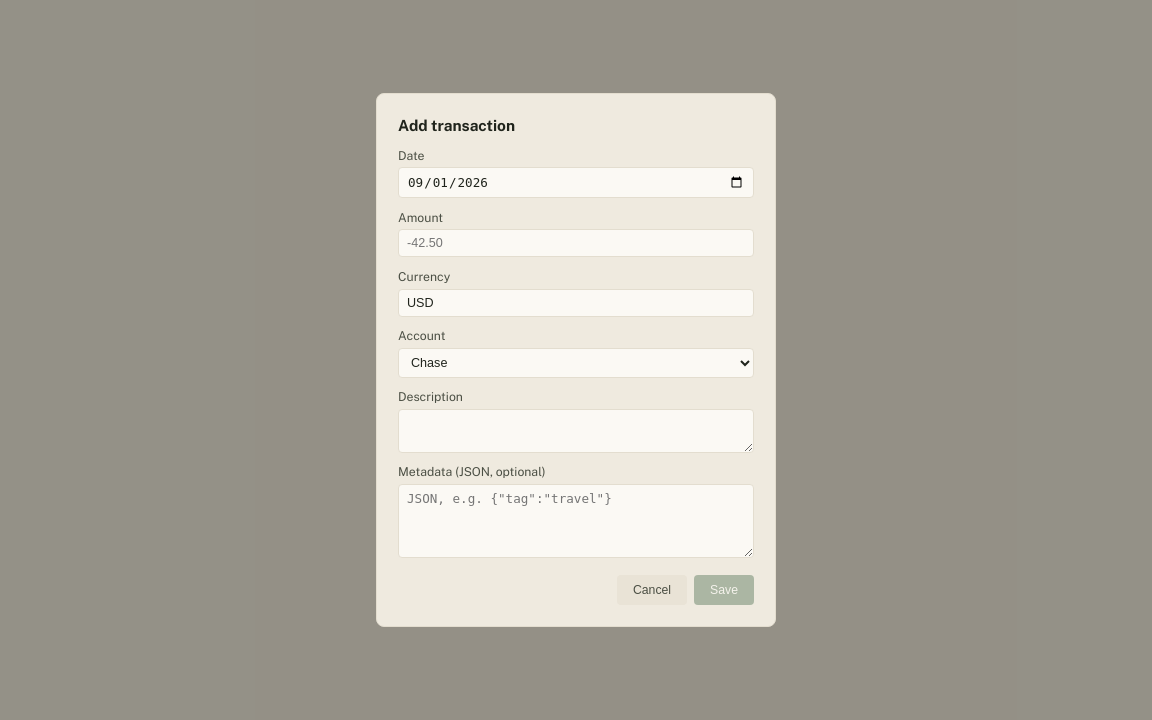
Test case: MintTransactionDialog › disables Save when description is empty
The width and height of the screenshot is (1152, 720).
// Valid amount, no description — still disabled.
Type "100.00" into the field labelled "Amount".
click(576, 243); type("100.00")  # box top-left (398, 229), bottom-right (754, 257)
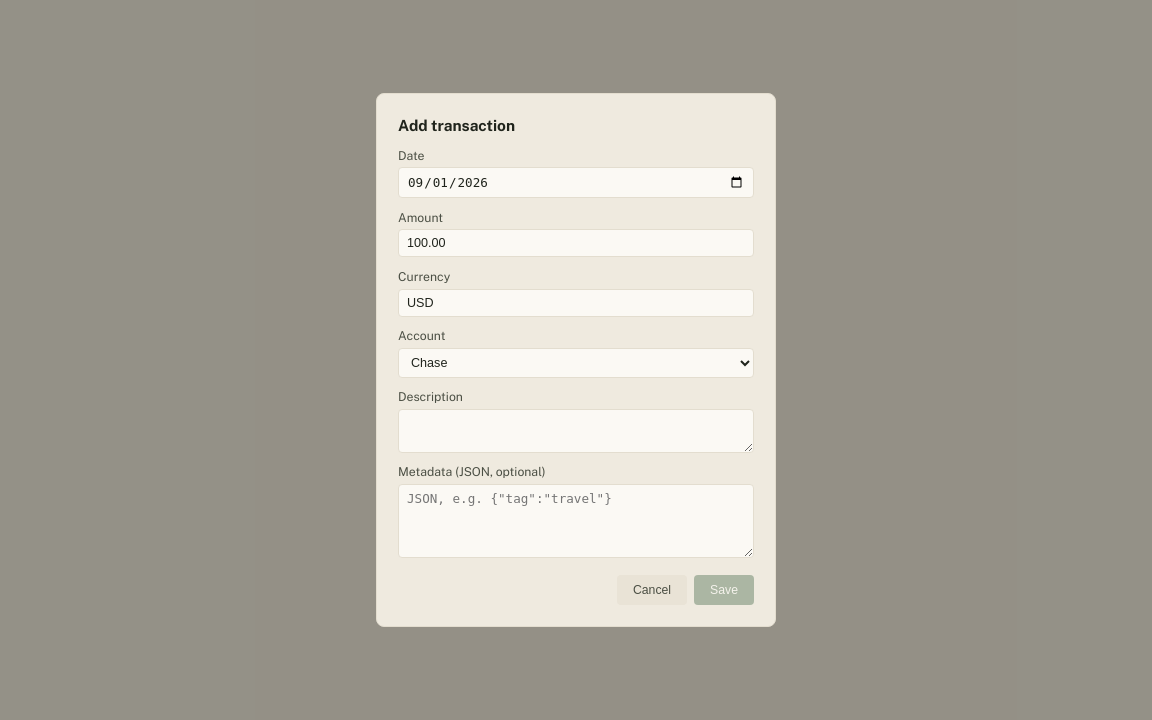
Check: the button "Save" is disabled, box top-left (694, 576), bottom-right (754, 606)
// Add description — Save enabled.
Type "Grocery run" into the text box labelled "Description".
click(576, 431); type("Grocery run")  # box top-left (398, 409), bottom-right (754, 453)
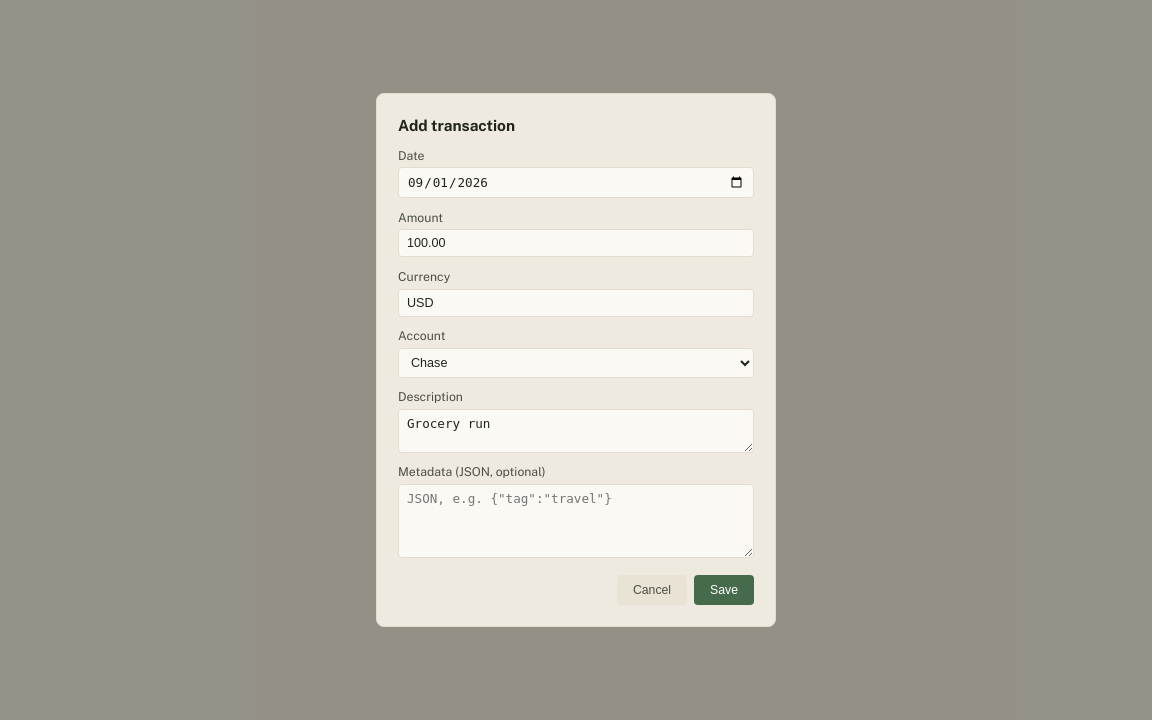
Check: the button "Save" is enabled, box top-left (694, 576), bottom-right (754, 606)
